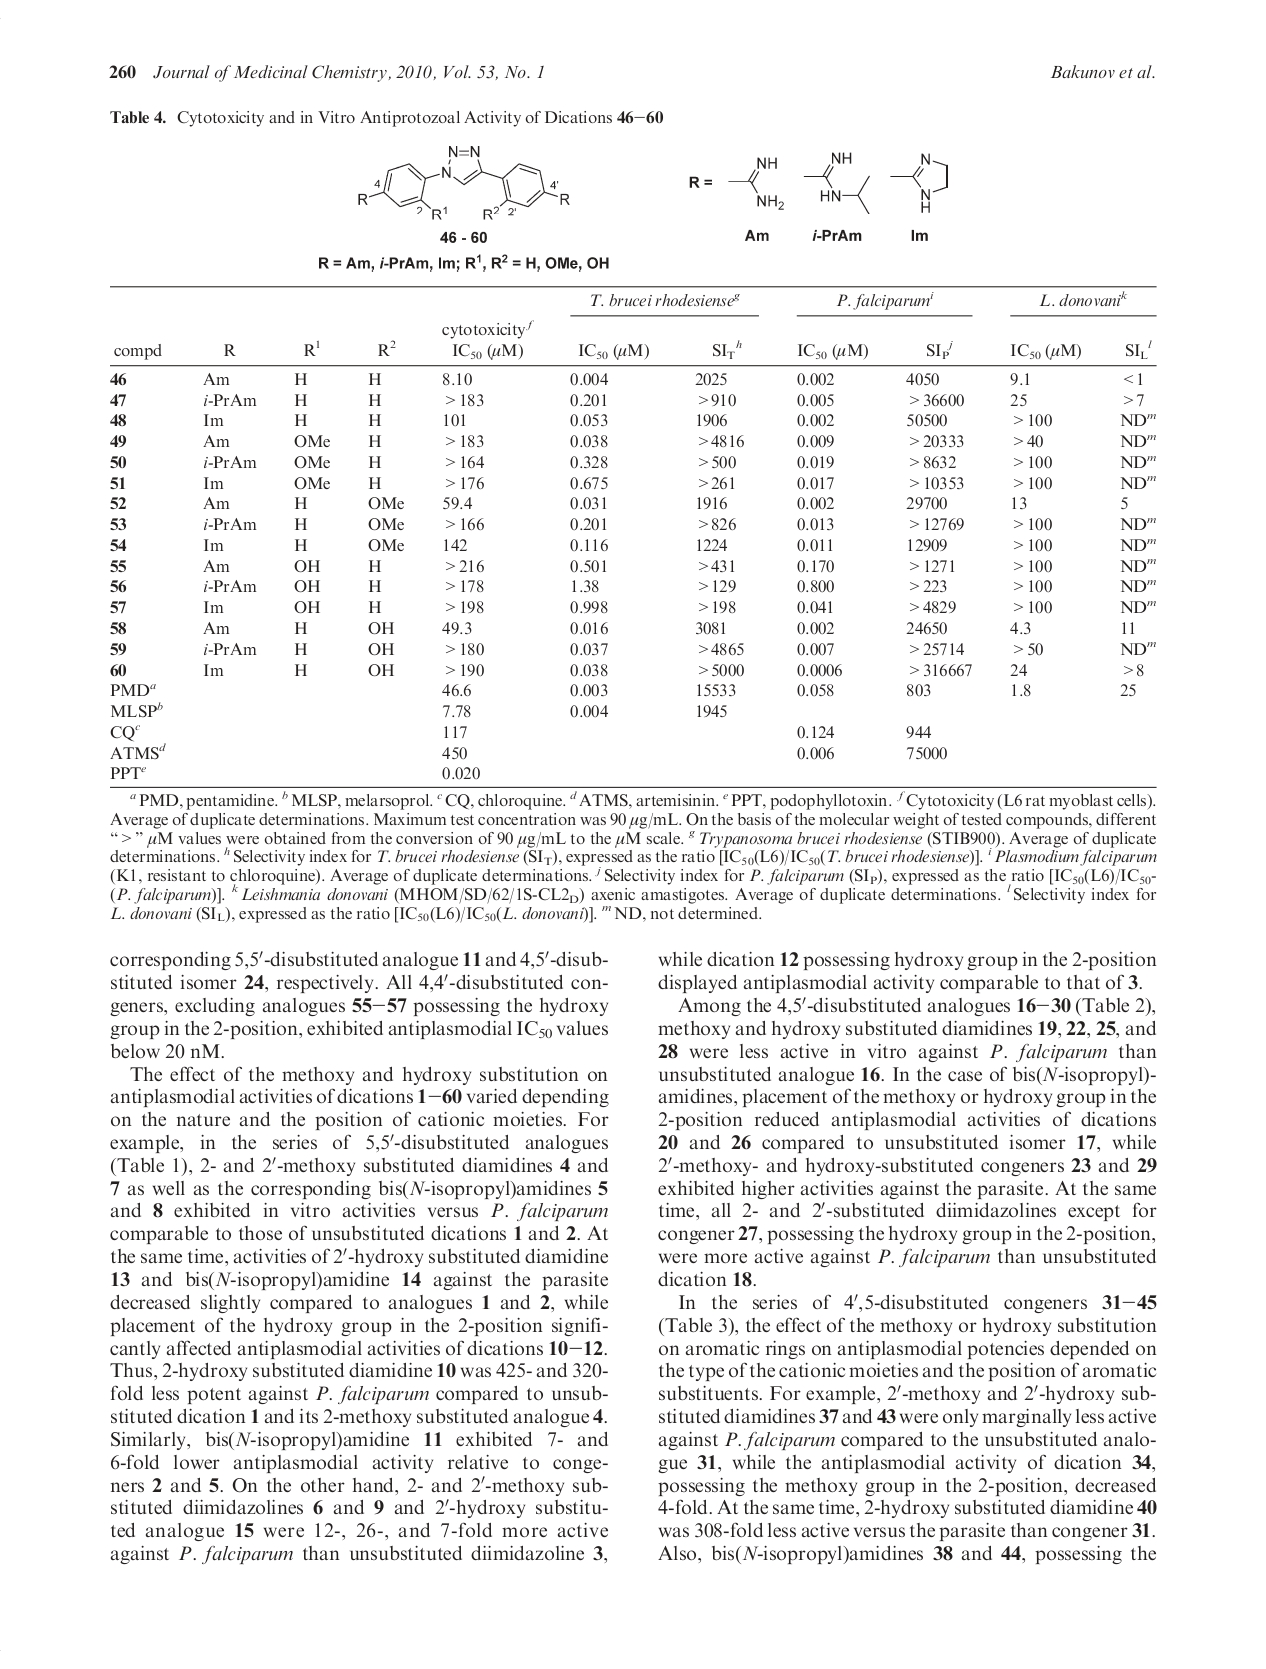exist_molecular: (356, 142, 573, 225), (803, 150, 872, 215), (890, 152, 952, 214), (727, 154, 787, 211)
